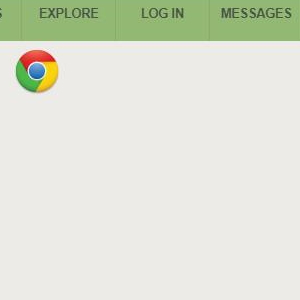chrome: (15, 49, 59, 93)
